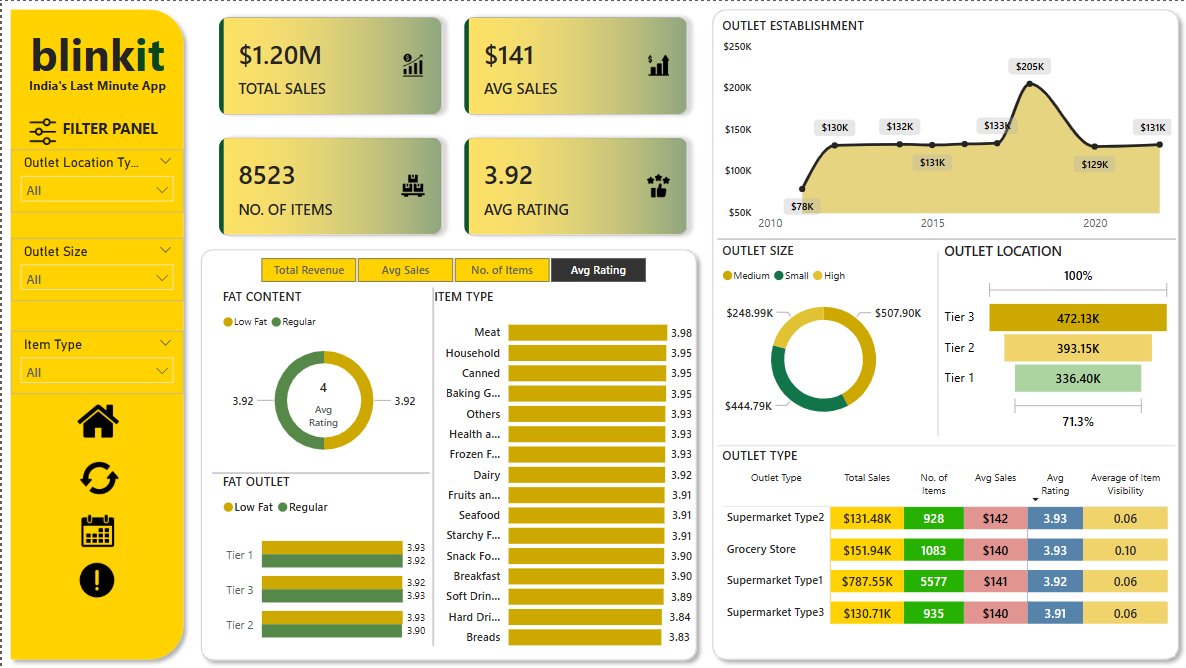

Layout of this report page (visuals, bound fields, positions):
{"tool":"powerbi","page":{"name":"Page 1","canvas":[1280,720],"ordinal":0},"visuals":[{"type":"shape","box":[0,0,205,720],"z":0},{"type":"textbox","box":[10,18.3,186.7,75],"z":1000},{"type":"textbox","box":[10,76.7,186.7,31.7],"z":2000},{"type":"cardVisual","fields":{"Data":["BlinkIT Grocery Data.Total Revenue","BlinkIT Grocery Data.Avg Sales","BlinkIT Grocery Data.No. of Items","BlinkIT Grocery Data.Avg Rating"]},"box":[216.7,0,541.7,270],"z":3000},{"type":"shape","box":[205,258.3,553.3,461.7],"z":4000},{"type":"donutChart","title":"FAT CONTENT","fields":{"Y":["BlinkIT Grocery Data.Avg Rating"],"Category":["BlinkIT Grocery Data.Item Fat Content"]},"box":[233.3,310,228.3,198.3],"z":5000},{"type":"slicer","fields":{"Values":["Metrics.Metrics"]},"box":[254.2,270.4,464.7,38.9],"z":6000},{"type":"cardVisual","fields":{"Data":["BlinkIT Grocery Data.Avg Rating"]},"box":[305,390,85,76.7],"z":7000},{"type":"clusteredBarChart","title":"FAT OUTLET","fields":{"Y":["BlinkIT Grocery Data.Avg Rating"],"Category":["BlinkIT Grocery Data.Outlet Location Type"],"Series":["BlinkIT Grocery Data.Item Fat Content"]},"box":[233.3,508.3,228.3,200],"z":8000},{"type":"shape","box":[226.7,496.7,235,25],"z":9000},{"type":"shape","box":[461.5,309.3,8.1,387],"z":10000},{"type":"barChart","title":"ITEM TYPE","fields":{"Y":["BlinkIT Grocery Data.Avg Rating"],"Category":["BlinkIT Grocery Data.Item Type"]},"box":[461.5,309.3,288.2,399.9],"z":11000},{"type":"shape","box":[758.3,0,521.7,720],"z":12000},{"type":"lineChart","title":" OUTLET ESTABLISHMENT","fields":{"Category":["BlinkIT Grocery Data.Outlet Establishment Year"],"Y":["BlinkIT Grocery Data.Total Sales"]},"box":[771.7,16.7,495,241.7],"z":13000},{"type":"shape","box":[771.7,245,495,25],"z":14000},{"type":"donutChart","title":"OUTLET SIZE","fields":{"Y":["BlinkIT Grocery Data.Total Sales"],"Category":["BlinkIT Grocery Data.Outlet Size"]},"box":[771.7,258.3,228.3,210],"z":15000},{"type":"shape","box":[1000.7,270.4,19.4,199.2],"z":16000},{"type":"funnel","title":"OUTLET LOCATION","fields":{"Y":["Sum(BlinkIT Grocery Data.Sales)"],"Category":["BlinkIT Grocery Data.Outlet Location Type"]},"box":[1011.7,258.3,255,210],"z":17000},{"type":"shape","box":[772.4,464.7,493.9,30.8],"z":18000},{"type":"pivotTable","title":"OUTLET TYPE","fields":{"Rows":["BlinkIT Grocery Data.Outlet Type"],"Values":["BlinkIT Grocery Data.Total Sales","BlinkIT Grocery Data.No. of Items","BlinkIT Grocery Data.Avg Sales","BlinkIT Grocery Data.Avg Rating","Avg(BlinkIT Grocery Data.Item Visibility)"]},"box":[772.4,480.9,493.9,226.7],"z":19000},{"type":"slicer","fields":{"Values":["BlinkIT Grocery Data.Outlet Location Type"]},"box":[9.7,160.3,186.2,68],"z":20000},{"type":"slicer","fields":{"Values":["BlinkIT Grocery Data.Outlet Size"]},"box":[9.7,255.8,186.2,68],"z":21000},{"type":"slicer","fields":{"Values":["BlinkIT Grocery Data.Item Type"]},"box":[9.7,356.2,186.2,68],"z":22000},{"type":"textbox","box":[55.1,121.4,123.1,38.9],"z":23000},{"type":"image","box":[21,121.4,45.3,38.9],"z":24000},{"type":"image","box":[72.9,425.9,61.5,55.1],"z":25000},{"type":"image","box":[72.9,597.5,59.9,55.1],"z":26000},{"type":"image","box":[77.7,489,55.1,51.8],"z":27000},{"type":"image","box":[77.7,548.9,51.8,45.3],"z":28000}]}

Visuals, with their boxes in screenshot pixels (x1, y1, x2, y2), scaled from the page's 1280x720 canvas onto the 1186x668 screenshot:
shape: <region>0, 0, 190, 667</region>
textbox: <region>9, 17, 182, 87</region>
textbox: <region>9, 71, 182, 101</region>
cardVisual - BlinkIT Grocery Data.Total Revenue x BlinkIT Grocery Data.Avg Sales: <region>201, 0, 703, 250</region>
shape: <region>190, 240, 703, 667</region>
"FAT CONTENT" donutChart: <region>216, 288, 428, 472</region>
slicer - Metrics.Metrics: <region>236, 251, 666, 287</region>
cardVisual - BlinkIT Grocery Data.Avg Rating: <region>283, 362, 361, 433</region>
"FAT OUTLET" clusteredBarChart: <region>216, 472, 428, 657</region>
shape: <region>210, 461, 428, 484</region>
shape: <region>428, 287, 435, 646</region>
"ITEM TYPE" barChart: <region>428, 287, 695, 658</region>
shape: <region>703, 0, 1185, 667</region>
" OUTLET ESTABLISHMENT" lineChart: <region>715, 15, 1174, 240</region>
shape: <region>715, 227, 1174, 250</region>
"OUTLET SIZE" donutChart: <region>715, 240, 927, 434</region>
shape: <region>927, 251, 945, 436</region>
"OUTLET LOCATION" funnel: <region>937, 240, 1174, 434</region>
shape: <region>716, 431, 1173, 460</region>
"OUTLET TYPE" pivotTable: <region>716, 446, 1173, 656</region>
slicer - BlinkIT Grocery Data.Outlet Location Type: <region>9, 149, 182, 212</region>
slicer - BlinkIT Grocery Data.Outlet Size: <region>9, 237, 182, 300</region>
slicer - BlinkIT Grocery Data.Item Type: <region>9, 330, 182, 394</region>
textbox: <region>51, 113, 165, 149</region>
image: <region>19, 113, 61, 149</region>
image: <region>68, 395, 125, 446</region>
image: <region>68, 554, 123, 605</region>
image: <region>72, 454, 123, 502</region>
image: <region>72, 509, 120, 551</region>
